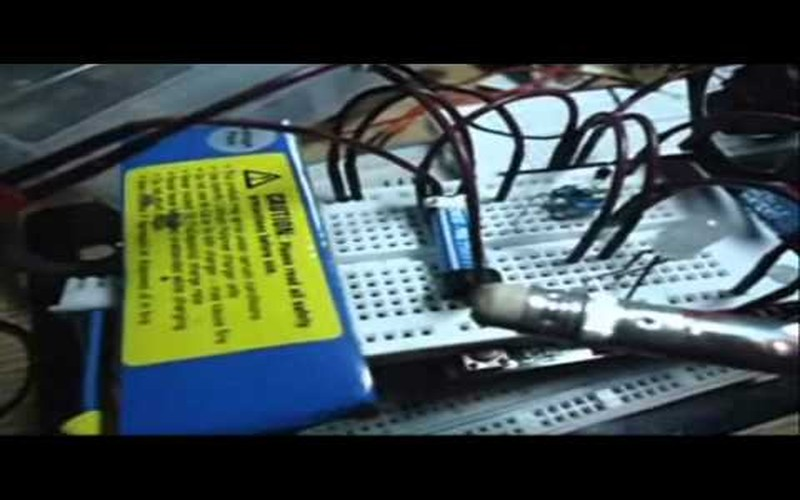Regulator: (325, 124, 740, 290)
